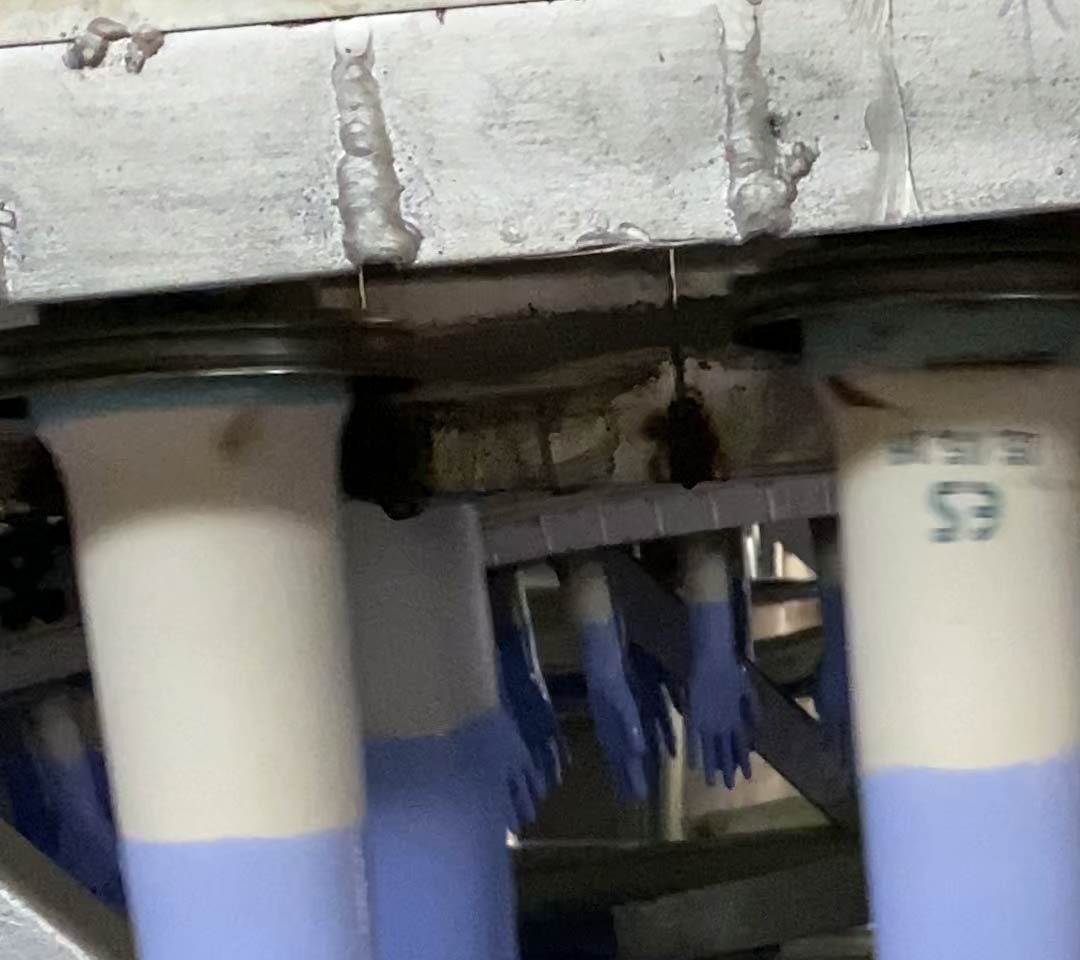glove: (678, 597, 767, 783), (566, 614, 647, 792)
